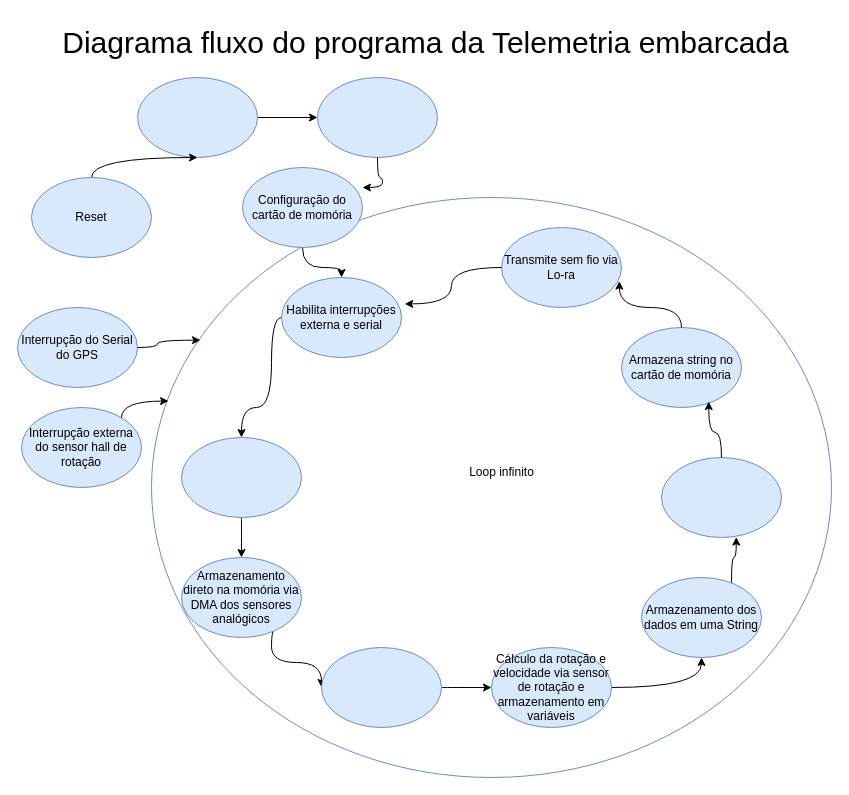
Some shapes in this 849 by 795 pixel diagram are drawn without their labels. Each missing label, with the centre of its shape:
"Configuração do canal de transmissão (canal fixo)" belongs at [377,117].
"Desabilita interrupções externa e serial" belongs at [721,497].
"Inicio" belongs at [197,117].
"Leitura dos sensores analógicos" belongs at [241,477].
"Tratamento dos dados dos sensores analógicos e armazenamento em variáveis" belongs at [381,687].
